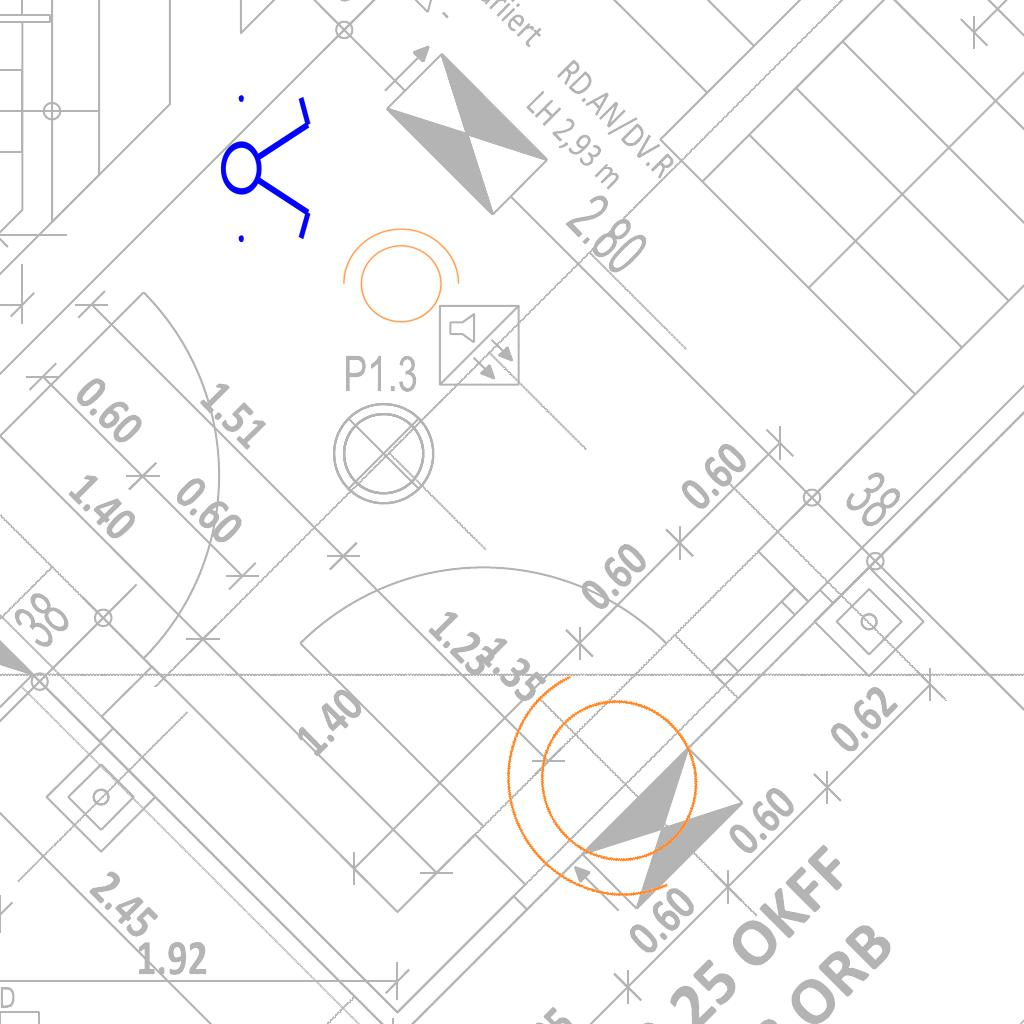Scheinwerfer_fuer_Alarmbeleuchtung: (455, 623, 771, 958), (332, 223, 464, 335)
Serienschalter: (219, 83, 315, 251)
